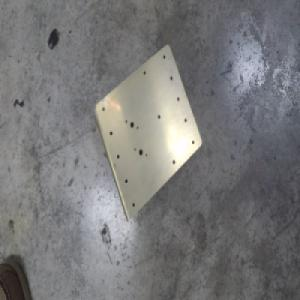MetalSheet: (91, 41, 203, 224)
